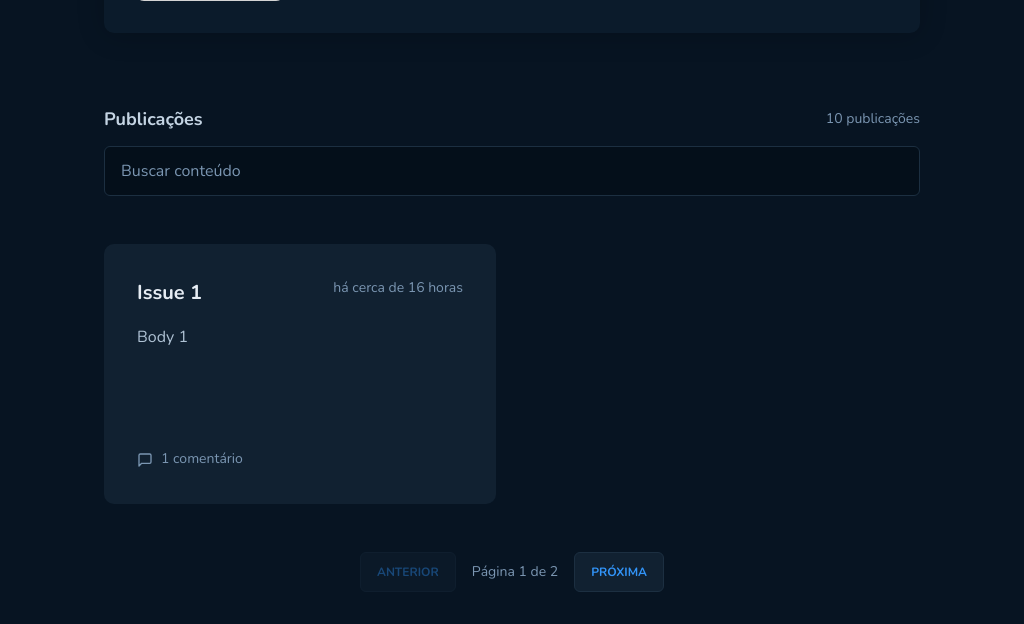
Test: HomePage integração › T-02: paginação com total_count=10 navega para page=2 e desabilita Anterior na página 1
(page scrolled)
Expected: the heading "Issue 1" is shown, [137,277,202,309]
Expected: the button with aria-label "Página anterior" is disabled, [360,552,456,592]
Click the button with aria-label "Próxima página".
click(619, 572)  # box [574,552,664,592]
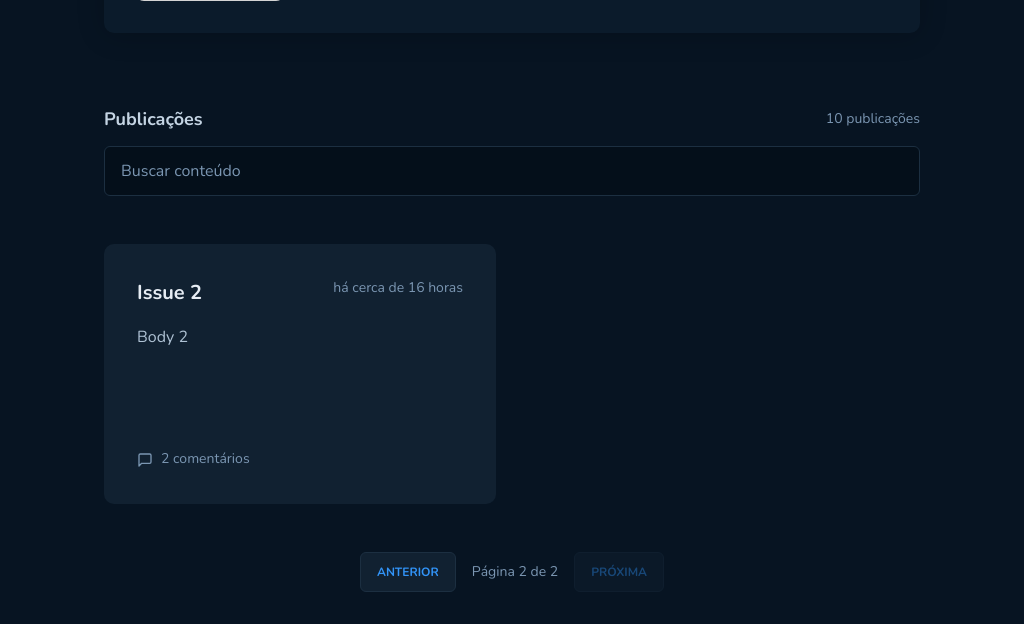
Now the heading "Issue 2" is shown, box [137,277,202,309]
